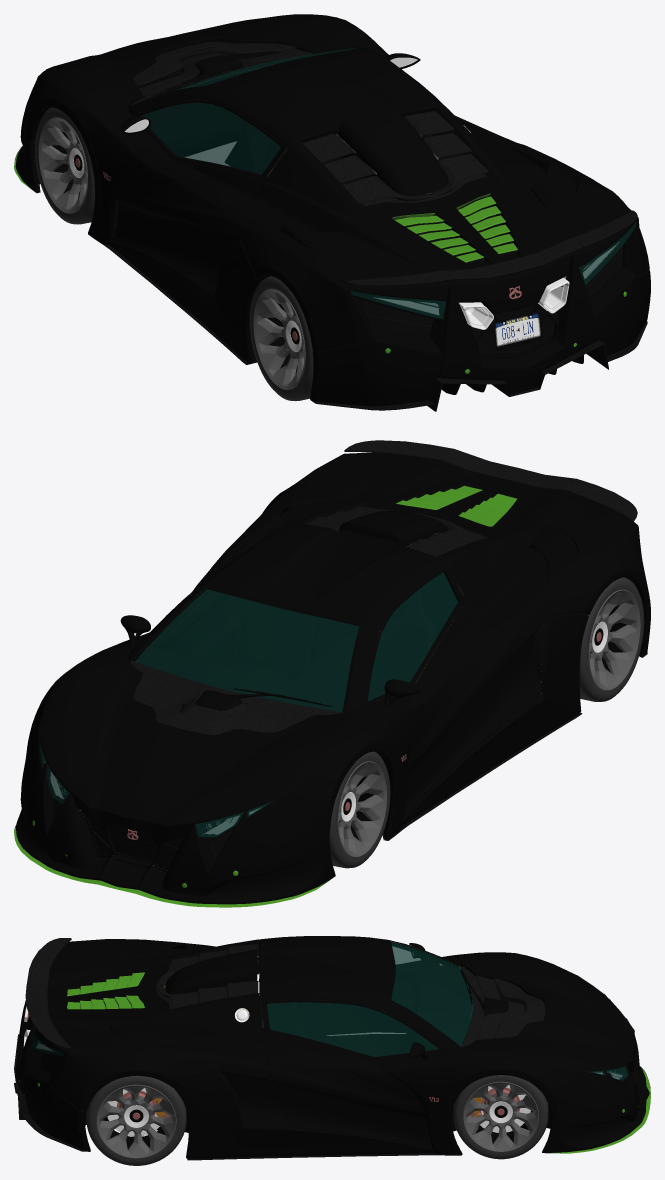
File: goblin.glb
The picture shows the model from 3 angles, top to bottom: view 1: azimuth 30°, elevation 25°; view 2: azimuth 150°, elevation 25°; view 3: azimuth 270°, elevation 25°; orthographic projection. The views are drawn at different scales.
Visible parts, largest first — view 1: clearcoat, car_body, car_glass, car_wheel_BL, car_wheel_FL; view 2: clearcoat, car_body, car_glass, car_wheel_BL, car_wheel_FL; view 3: clearcoat, car_body, car_glass, car_wheel_BR, car_wheel_FR.
Part boxes in pixels (x1,y1,x2,y2): clearcoat: [15, 14, 650, 406]; car_body: [14, 40, 647, 411]; car_glass: [140, 48, 636, 319]; car_wheel_BL: [250, 276, 313, 401]; car_wheel_FL: [35, 107, 94, 224]; clearcoat: [15, 453, 650, 904]; car_body: [14, 440, 647, 907]; car_glass: [40, 572, 457, 837]; car_wheel_BL: [579, 577, 644, 701]; car_wheel_FL: [329, 751, 390, 868]; clearcoat: [16, 936, 649, 1158]; car_body: [14, 938, 650, 1160]; car_glass: [31, 942, 628, 1080]; car_wheel_BR: [86, 1075, 186, 1165]; car_wheel_FR: [453, 1075, 548, 1159].
Size of what is drawn, in the model's own units: 0.0565 by 0.0301 by 0.1181.
4 materials, 2 textured.
